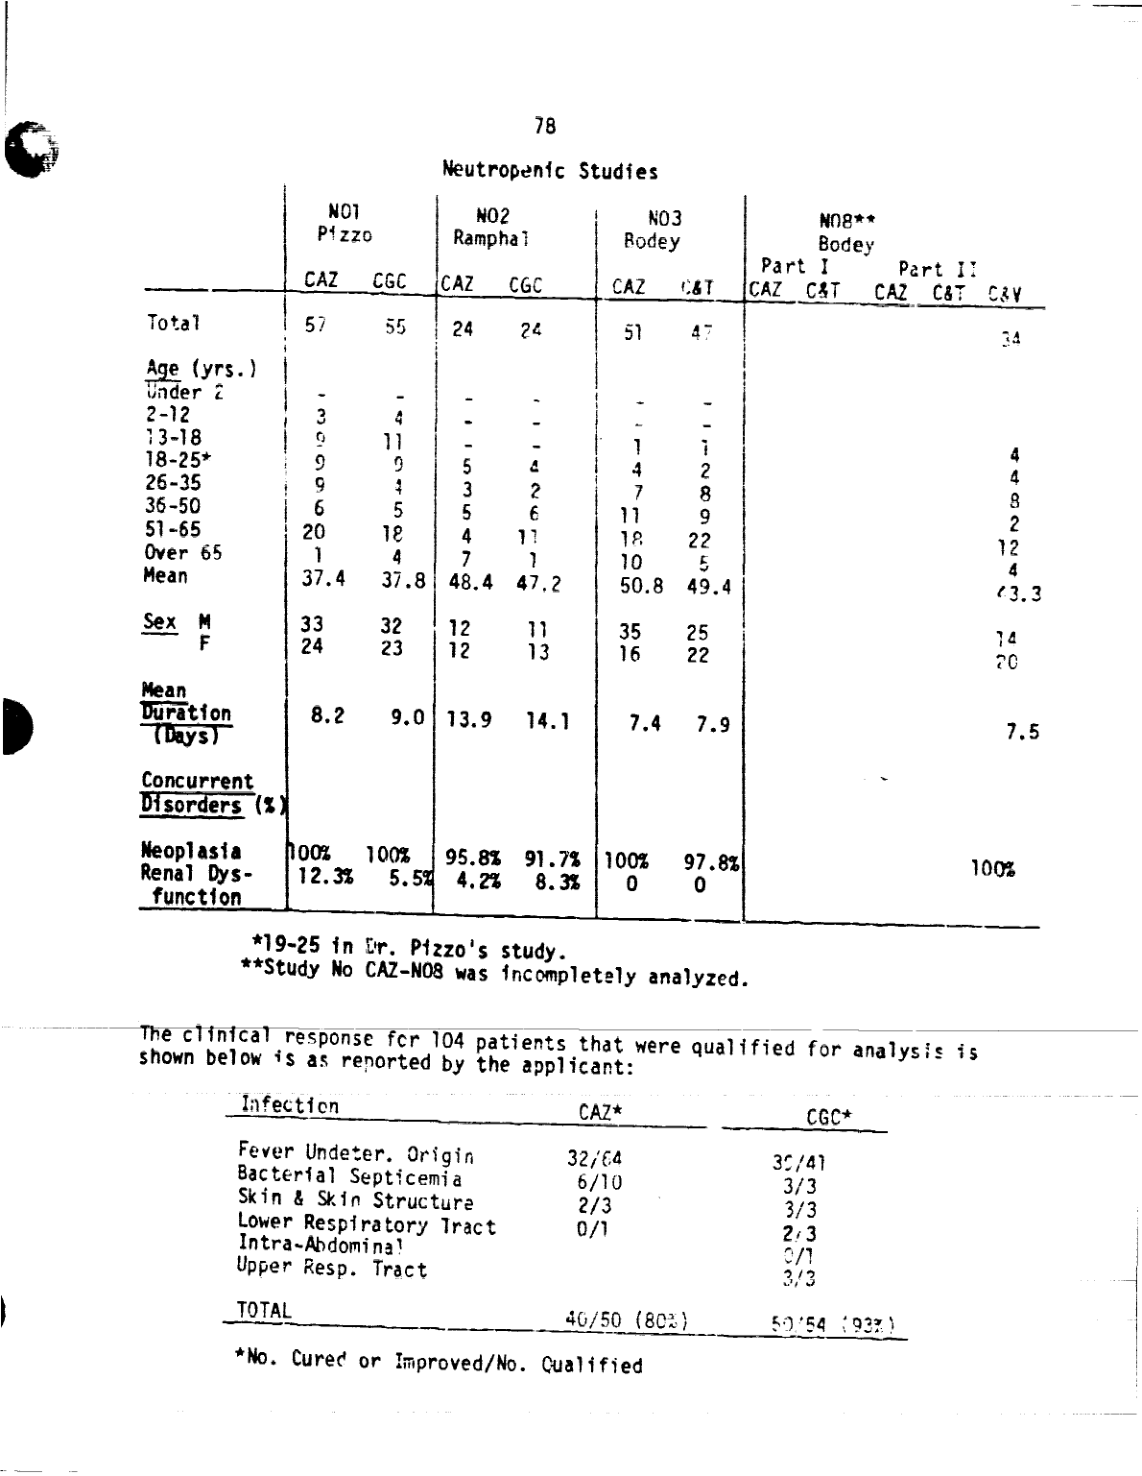partial_lined: (129, 184, 1061, 934), (207, 1085, 916, 1347)
